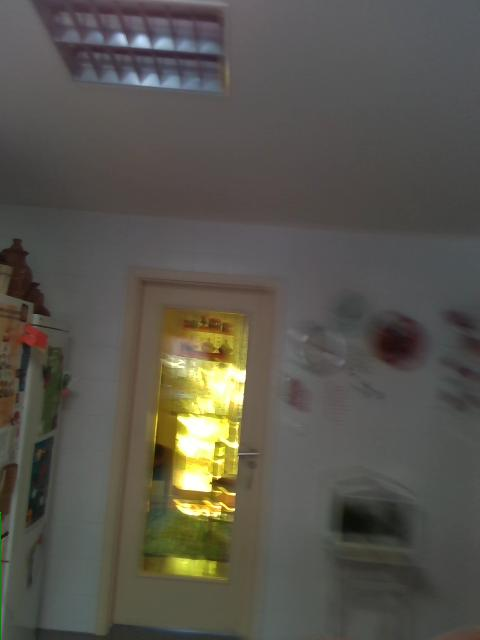closed_door: (100, 272, 284, 639)
